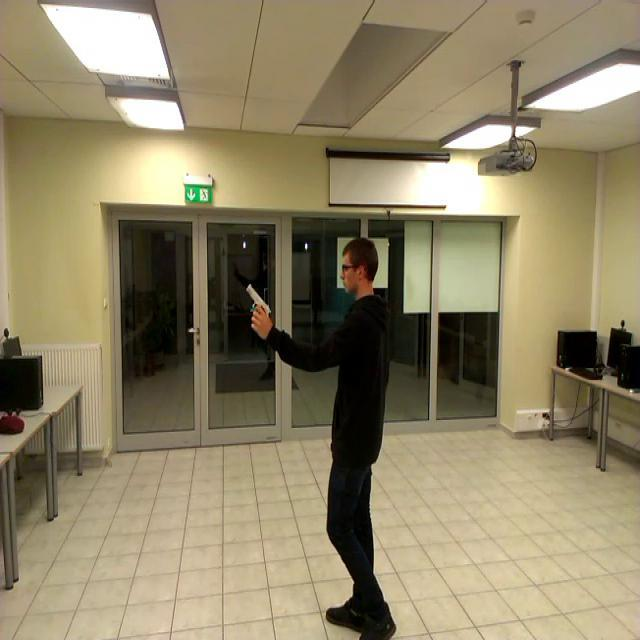Gun: (246, 282, 272, 329)
